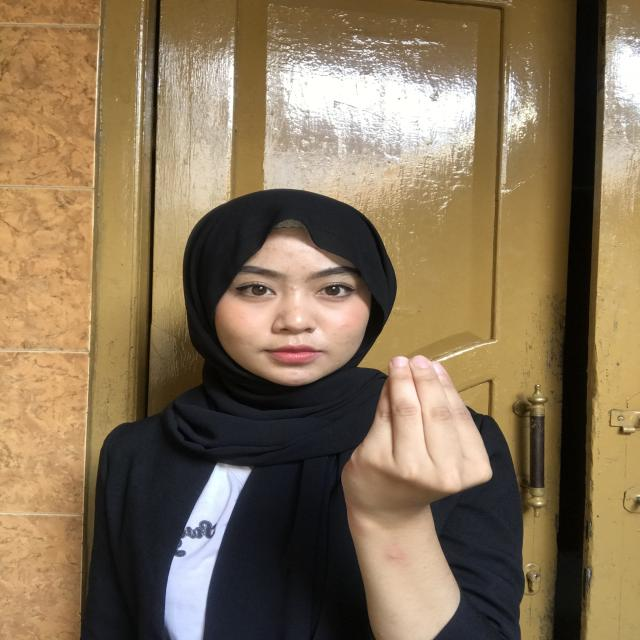kapan: (358, 348, 494, 520)
